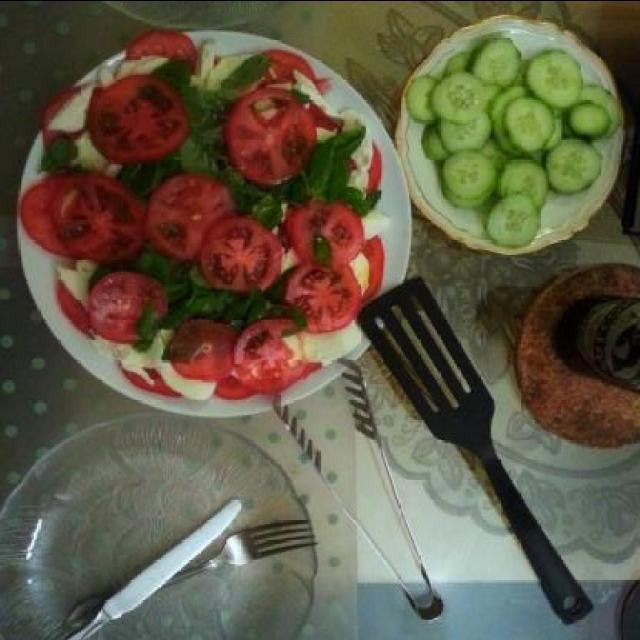Cucumber: (396, 18, 594, 246)
